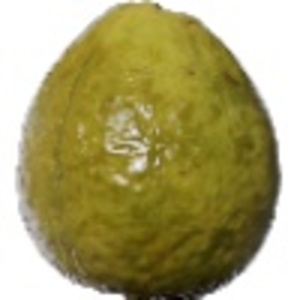goiaba: (11, 3, 285, 295)
